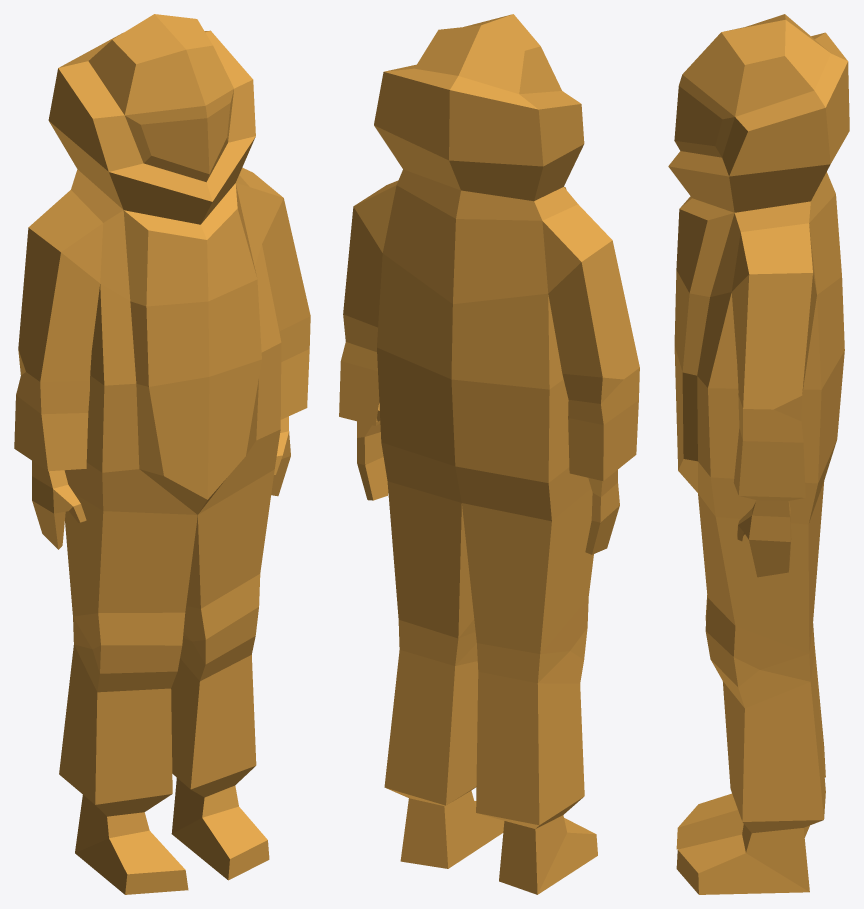
Rendered from man-EOD.fbx.
3 views of the same model, side by side, from view 1: azimuth 30°, elevation 25°; view 2: azimuth 150°, elevation 25°; view 3: azimuth 270°, elevation 25° (orthographic).
Parts seen in each view (by area): view 1: man-EOD; view 2: man-EOD; view 3: man-EOD.
Part boxes in pixels (x1,y1,x2,y2): man-EOD: (14,14,310,894); man-EOD: (339,14,639,894); man-EOD: (668,14,849,894).
Bounding box in the file's own units: 0.6403 × 1.88 × 0.369.
